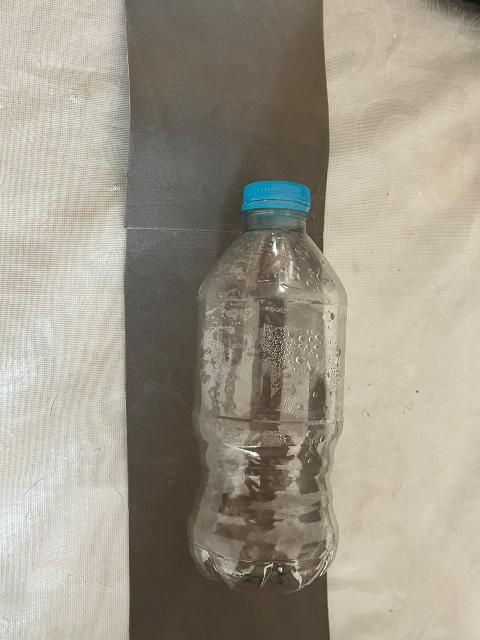PET: (155, 145, 376, 619)
